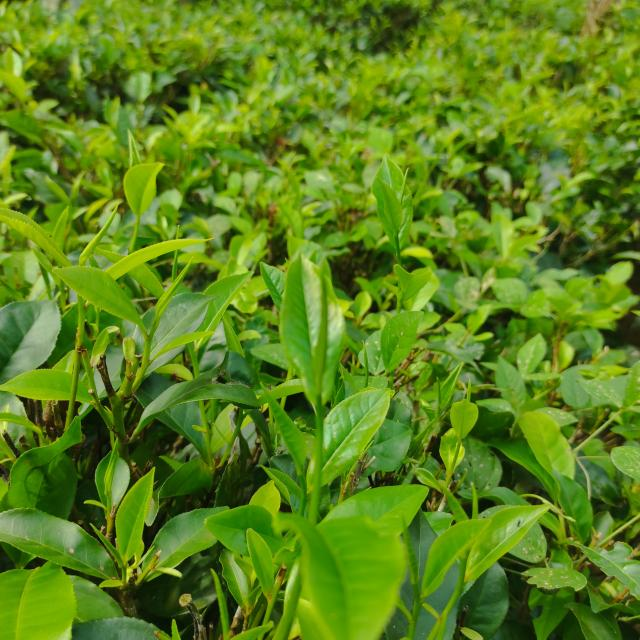unopened_leaf: (434, 539, 478, 640), (308, 255, 335, 406), (151, 251, 198, 327), (74, 199, 124, 269), (85, 518, 132, 580), (204, 565, 236, 640), (396, 508, 423, 594), (99, 433, 127, 510), (28, 242, 67, 294), (167, 222, 187, 288), (48, 200, 74, 246), (466, 477, 485, 524), (0, 275, 30, 304), (131, 541, 158, 571), (432, 372, 446, 424), (359, 337, 372, 390), (210, 419, 232, 449), (398, 166, 412, 209), (464, 376, 474, 404)
